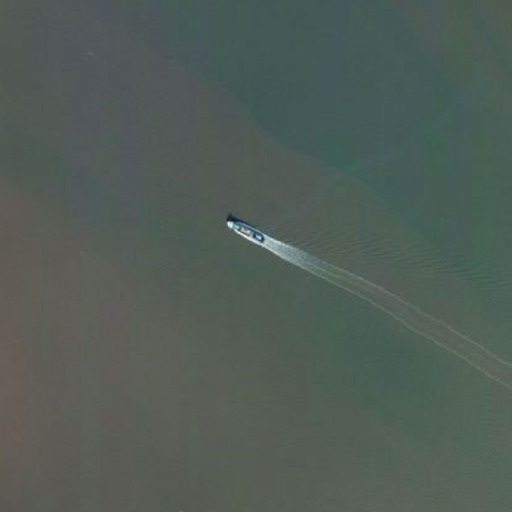ship: (223, 213, 270, 249)
